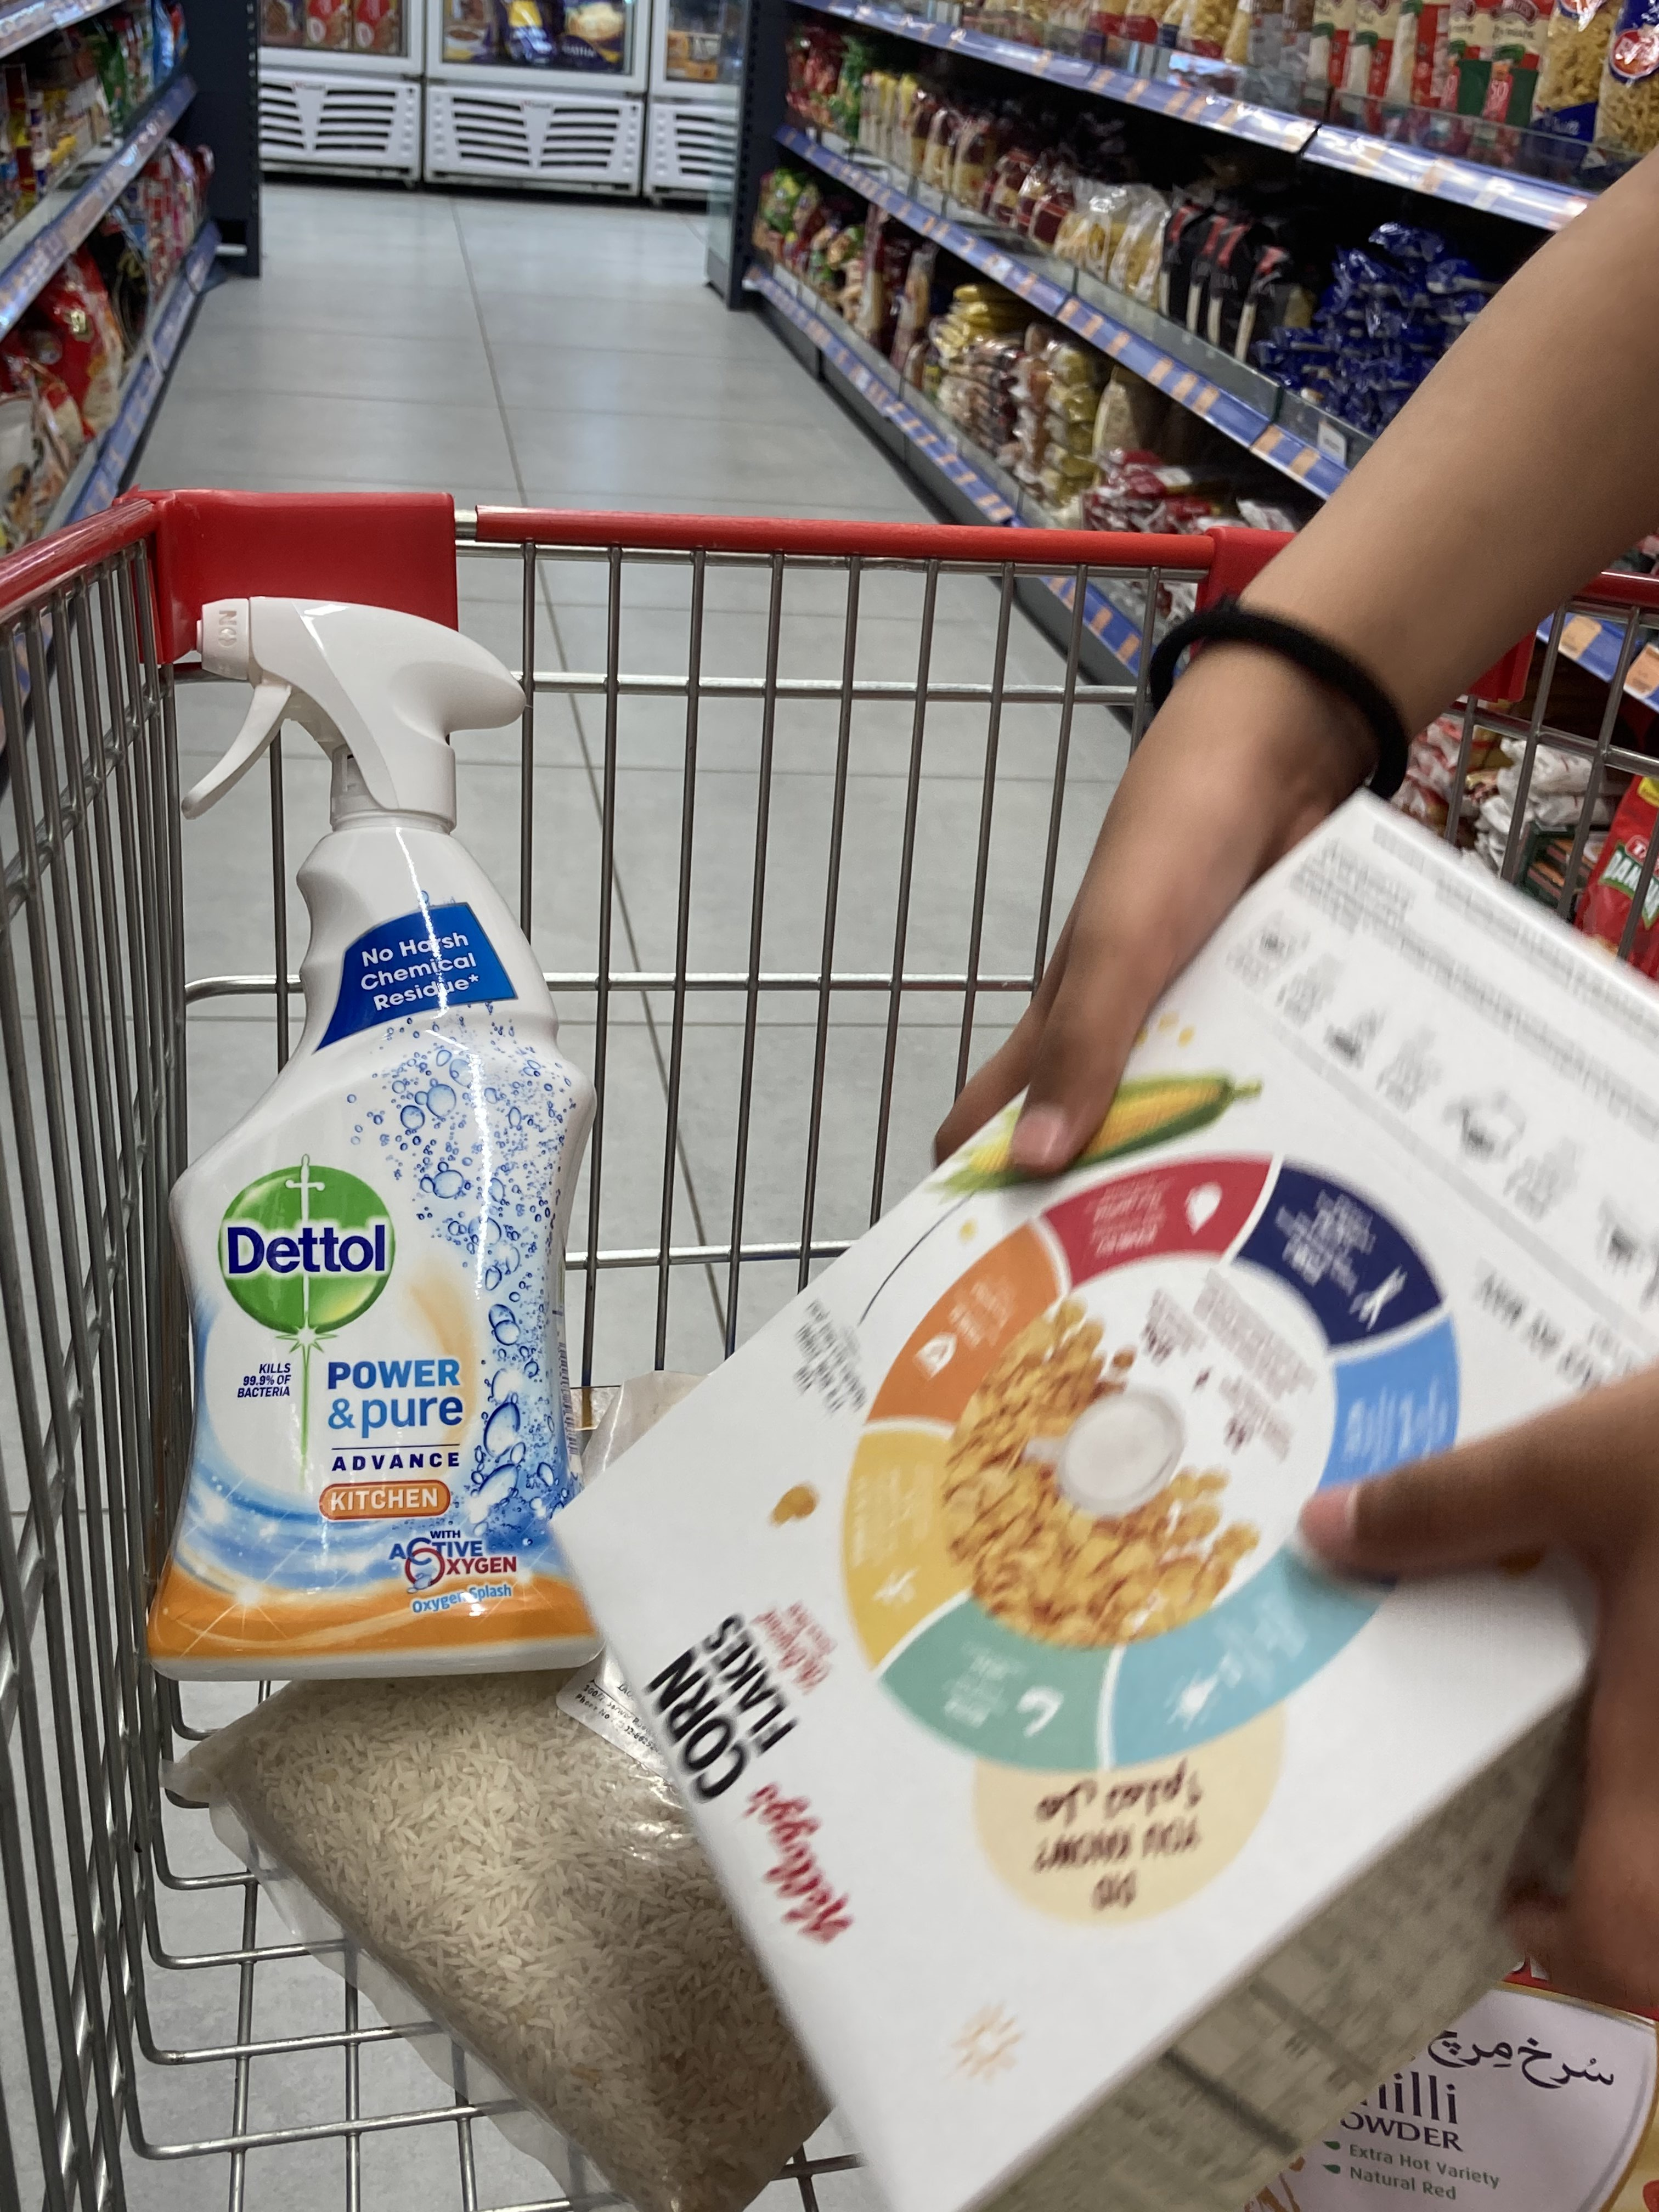Kellogg's Corn Flakes: (558, 787, 1659, 2193)
